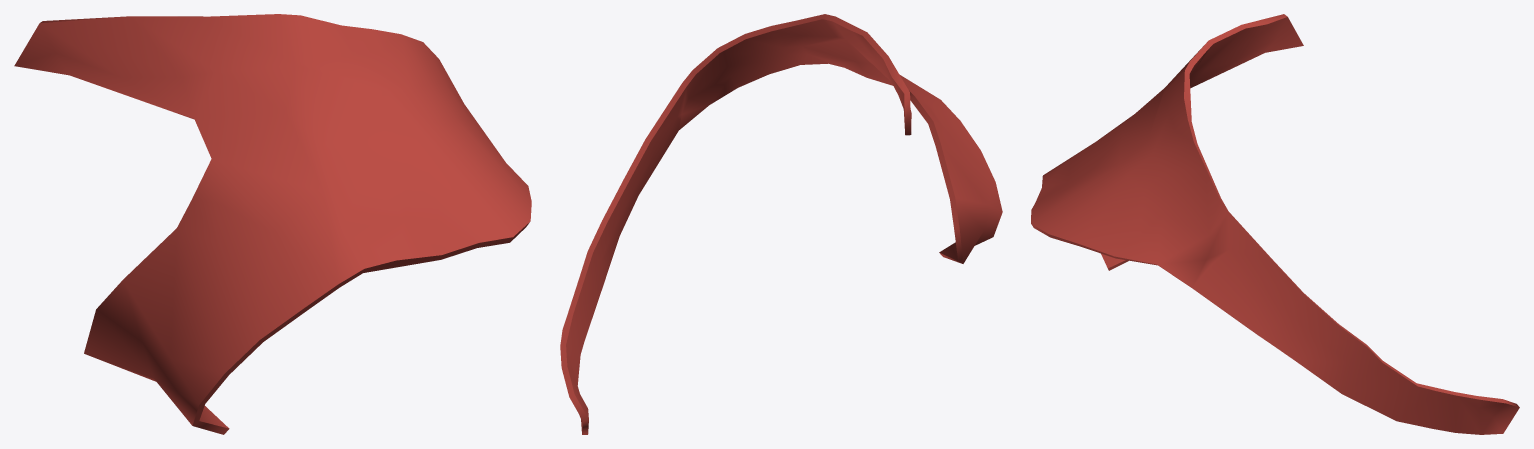
Rendered from musculos-superior-fibular-retinaculum-l.glb.
3 renders of one model, left to right at view 1: azimuth 30°, elevation 25°; view 2: azimuth 150°, elevation 25°; view 3: azimuth 270°, elevation 25°, orthographic. The views are drawn at different scales.
Parts seen in each view (by area): view 1: Superior fibular retinaculum.l; view 2: Superior fibular retinaculum.l; view 3: Superior fibular retinaculum.l.
Boxes of the visible parts, x1=… form: Superior fibular retinaculum.l: x1=14, y1=14, x2=531, y2=434; Superior fibular retinaculum.l: x1=560, y1=14, x2=1002, y2=434; Superior fibular retinaculum.l: x1=1031, y1=14, x2=1519, y2=434.
Bounding box in the file's own units: 0.0574 × 0.0598 × 0.081.
